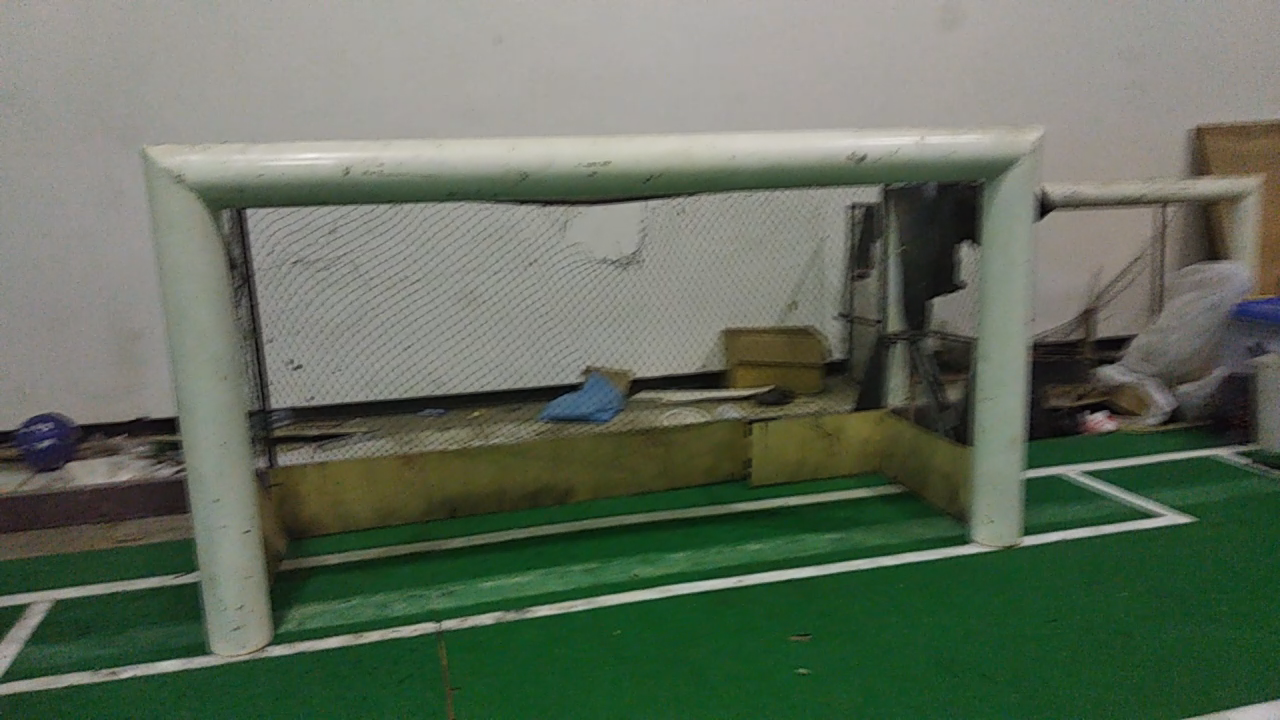gawang: (126, 109, 1062, 668)
